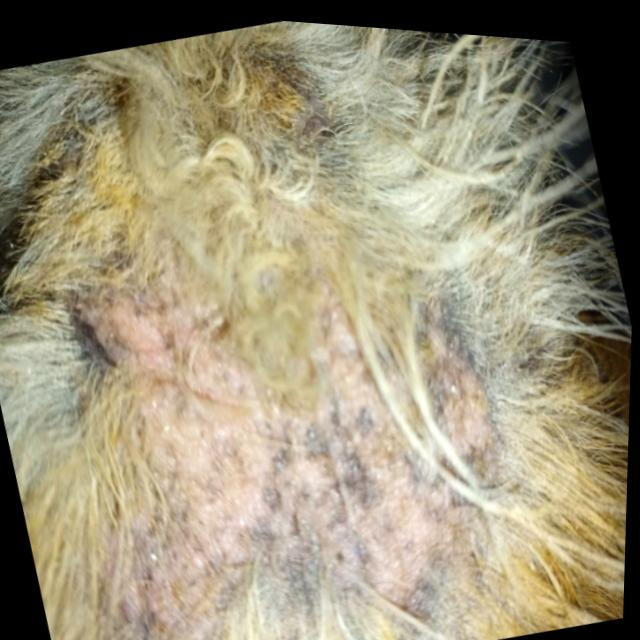demodicosis: (70, 200, 494, 635)
